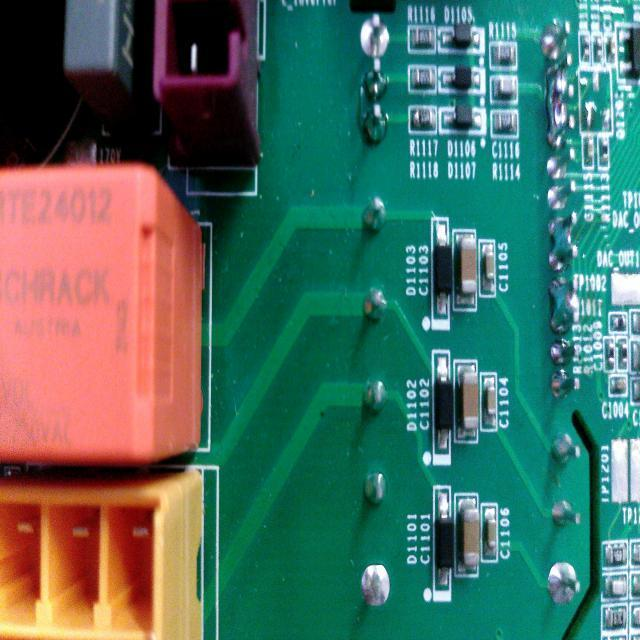Soldering shorted: (546, 270, 588, 340), (546, 64, 576, 148), (549, 208, 580, 276)
